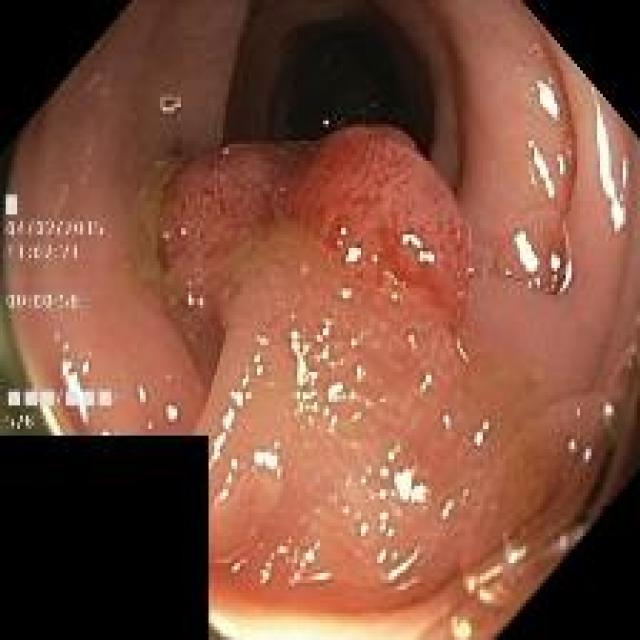Polyps: (158, 126, 471, 611)
